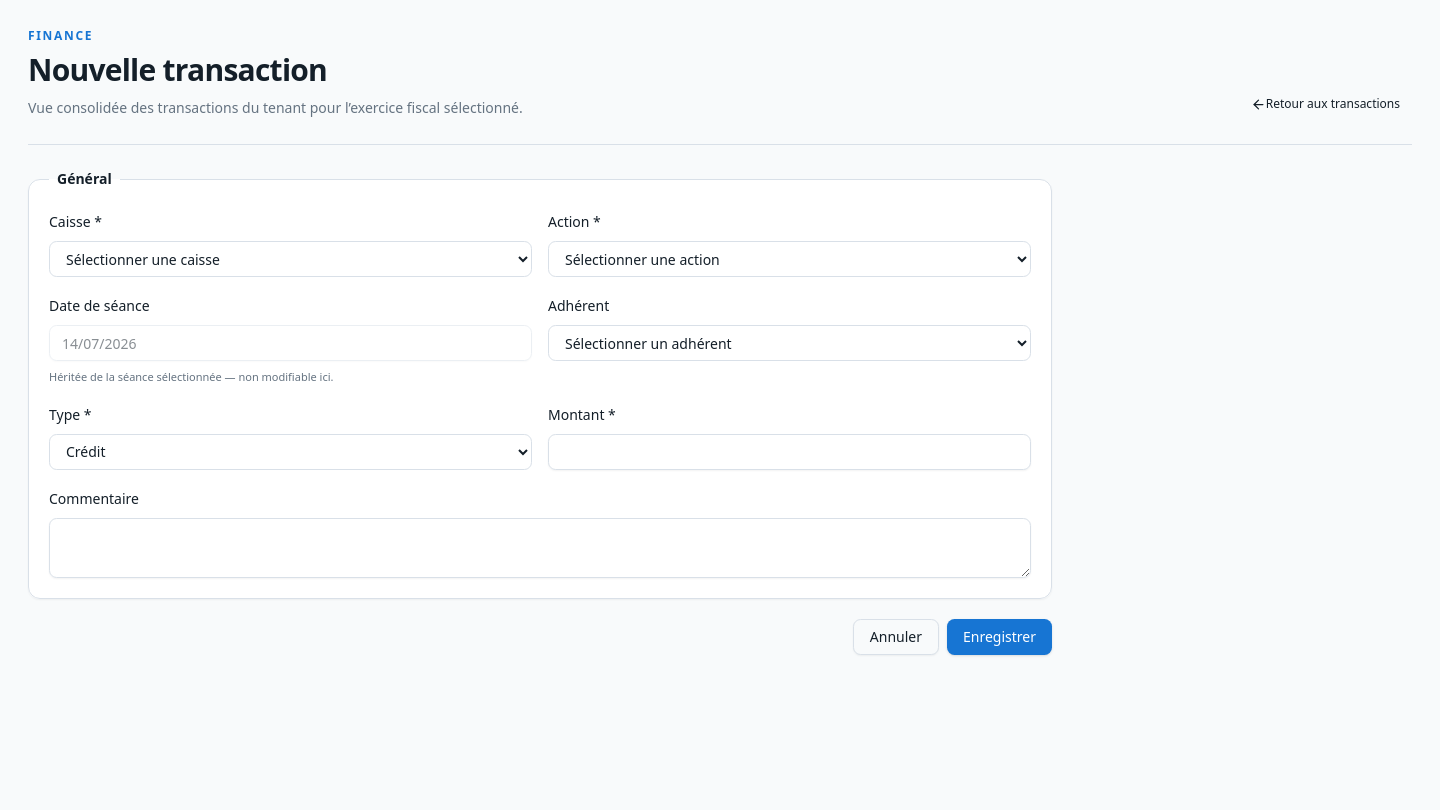
Test case: Finance → Transactions — saisie (journal central) › § PRÊT : Catégorie = Prêt sur la caisse Transport affiche les conditions, la garantie ET l’approbation imposées par la politique
Select "Transport" in the dropdown labelled "Caisse *". click: (290, 259)
box: [49,241,532,277]
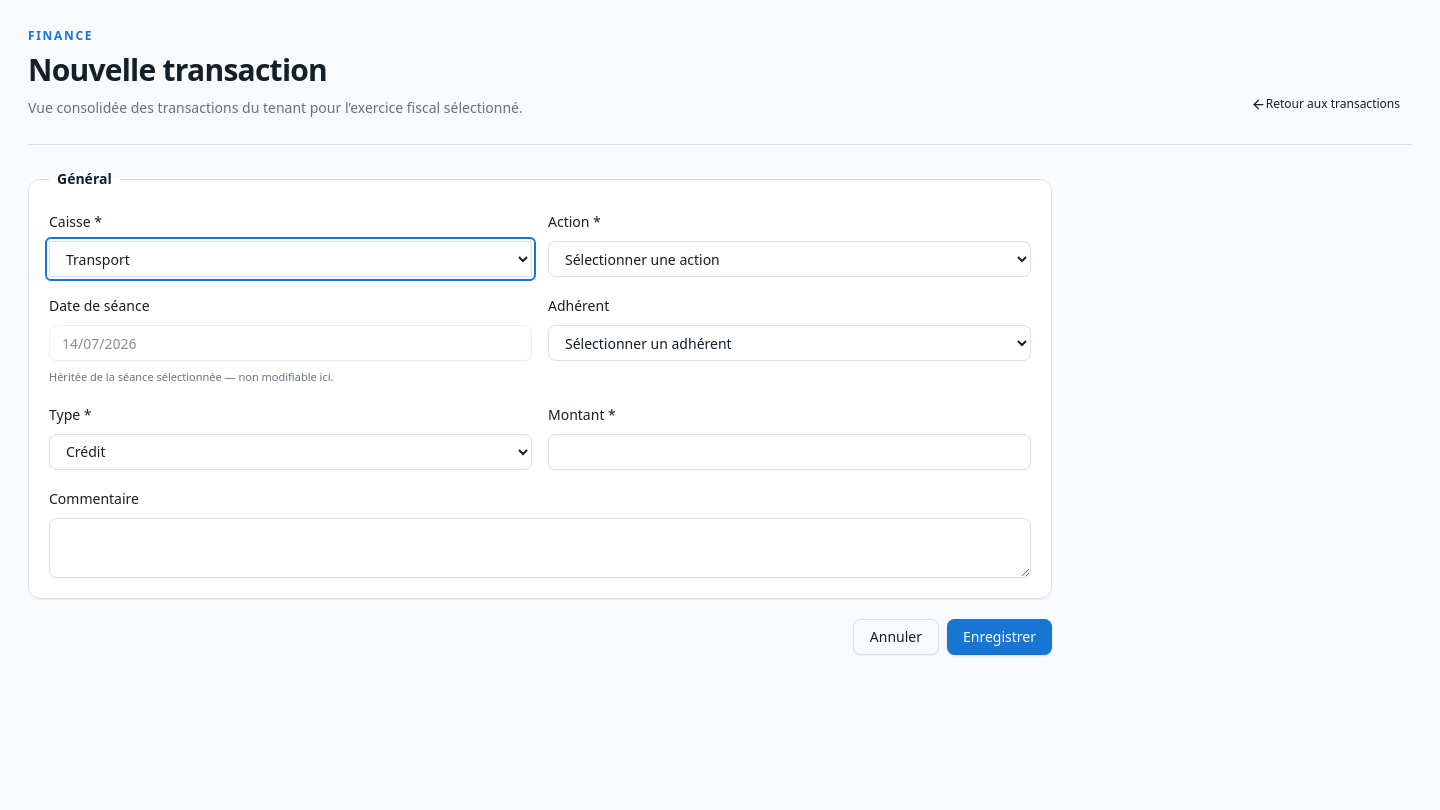
Select "Emprunter" in the dropdown labelled "Action *". click: (790, 259)
box: [548,241,1031,277]
(page scrolled)
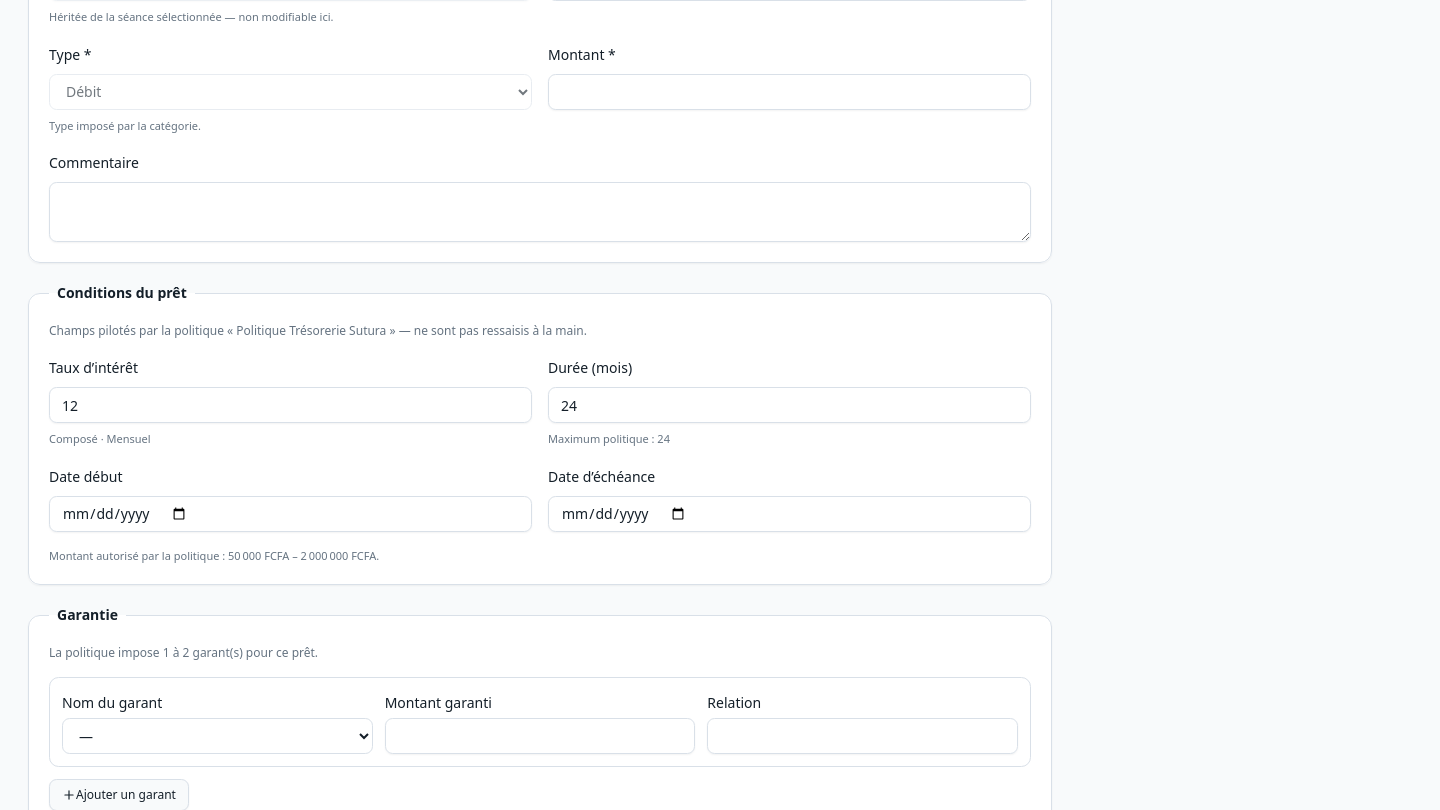
Check: the text "Conditions du prêt" is shown, box [49,283,195,303]
Check: the text "Garantie" is shown, box [57,605,118,624]
Check: the number field labelled "Taux d’intérêt" holds "12", box [49,387,532,423]
